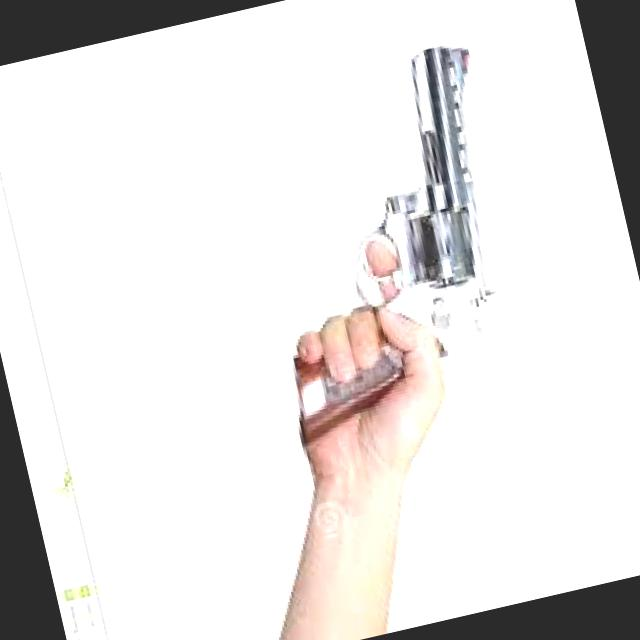handgun: (218, 31, 554, 438)
